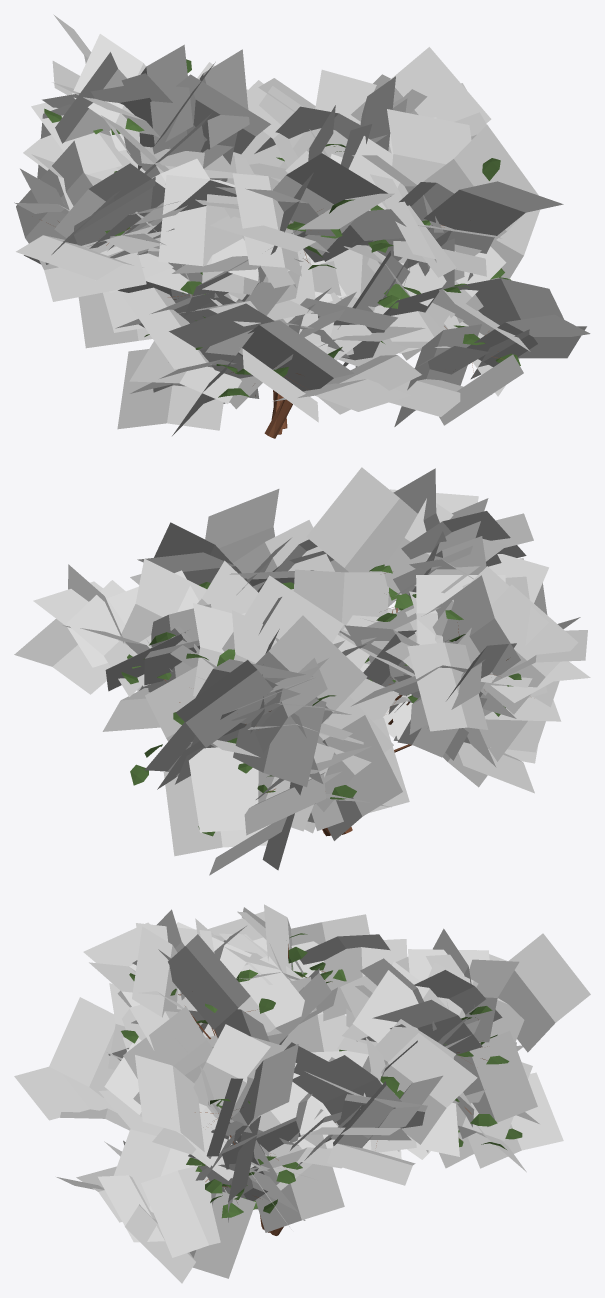
The model's file is Arbousier_Etale_LOD2.fbx.
3 views of the same model, one above another, from view 1: azimuth 30°, elevation 25°; view 2: azimuth 150°, elevation 25°; view 3: azimuth 270°, elevation 25° (orthographic). The views are drawn at different scales.
Visible parts, largest first — view 1: Arbousier_Etale_LOD2; view 2: Arbousier_Etale_LOD2; view 3: Arbousier_Etale_LOD2.
Boxes of the visible parts, x1=… form: Arbousier_Etale_LOD2: x1=14, y1=14, x2=590, y2=438; Arbousier_Etale_LOD2: x1=14, y1=467, x2=590, y2=875; Arbousier_Etale_LOD2: x1=14, y1=904, x2=590, y2=1283.
Bounding box in the file's own units: 515 × 332 × 569.
